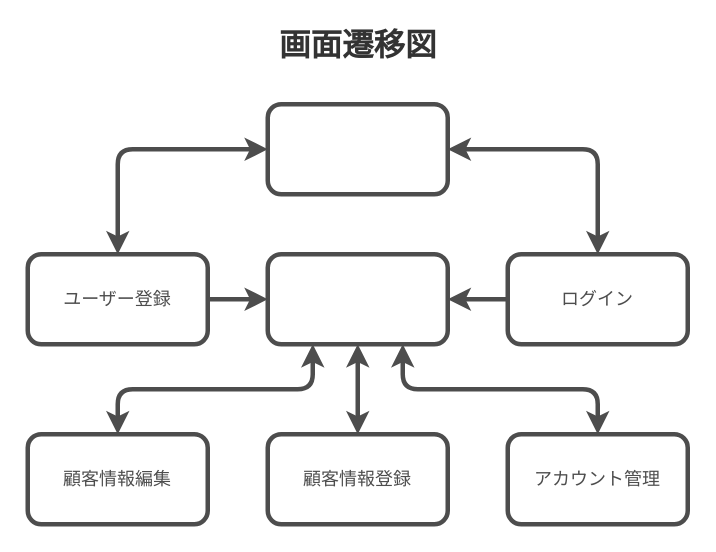
The diagram is 716 pixels wide and 552 high, and some of its shapes have lost their labels. The shapes that lost their labels are listed below. From the top down, each one's centre as x and y in pixels, then its label:
At (x=357, y=148): "トップ".
At (x=357, y=298): "顧客管理 ダッシュボード".
